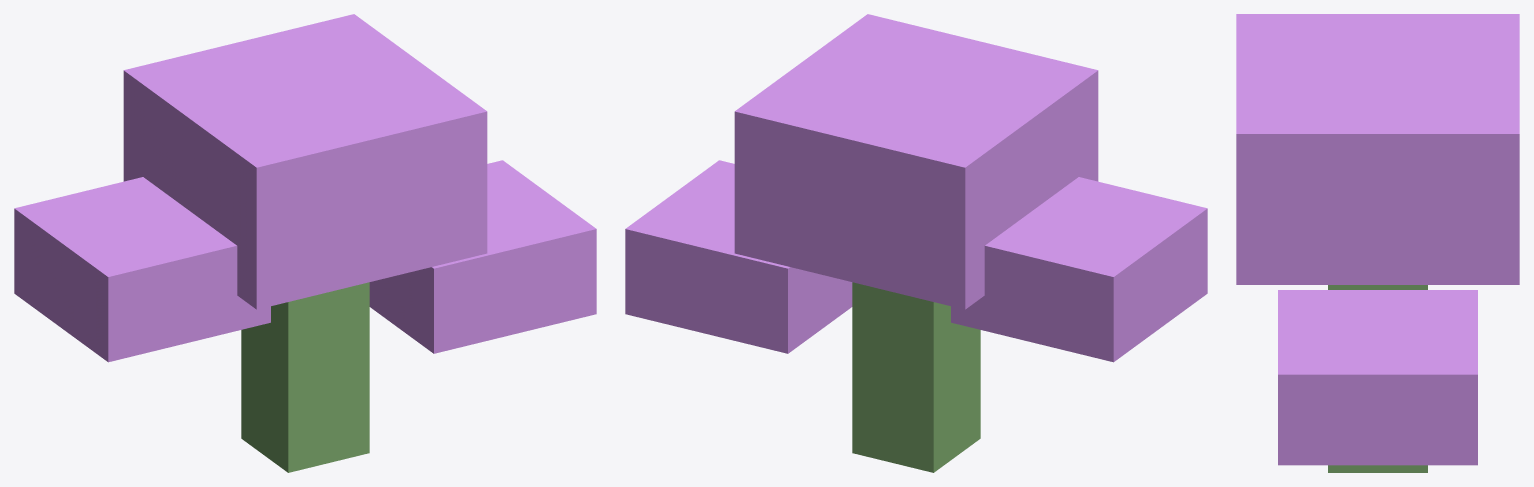
The model's file is Prop_DS_Herb_SwapRoot_S1.glb.
3 renders of one model, left to right at view 1: azimuth 30°, elevation 25°; view 2: azimuth 150°, elevation 25°; view 3: azimuth 270°, elevation 25°, orthographic. The views are drawn at different scales.
Parts seen in each view (by area): view 1: Cube.003, Cube.002, Cube.001, Cube; view 2: Cube.003, Cube.002, Cube.001, Cube; view 3: Cube.003, Cube.001, Cube.
Boxes of the visible parts, x1,y1,x2,y2 form: Cube.003: (123,14,487,309); Cube.002: (14,177,270,362); Cube.001: (369,160,596,353); Cube: (241,282,369,472); Cube.003: (734,14,1098,309); Cube.002: (951,177,1207,362); Cube.001: (625,160,852,353); Cube: (852,282,980,472); Cube.003: (1236,14,1519,284); Cube.001: (1278,290,1477,465); Cube: (1328,285,1427,472).
Bounding box in the file's own units: 0.36 × 0.25 × 0.17.
